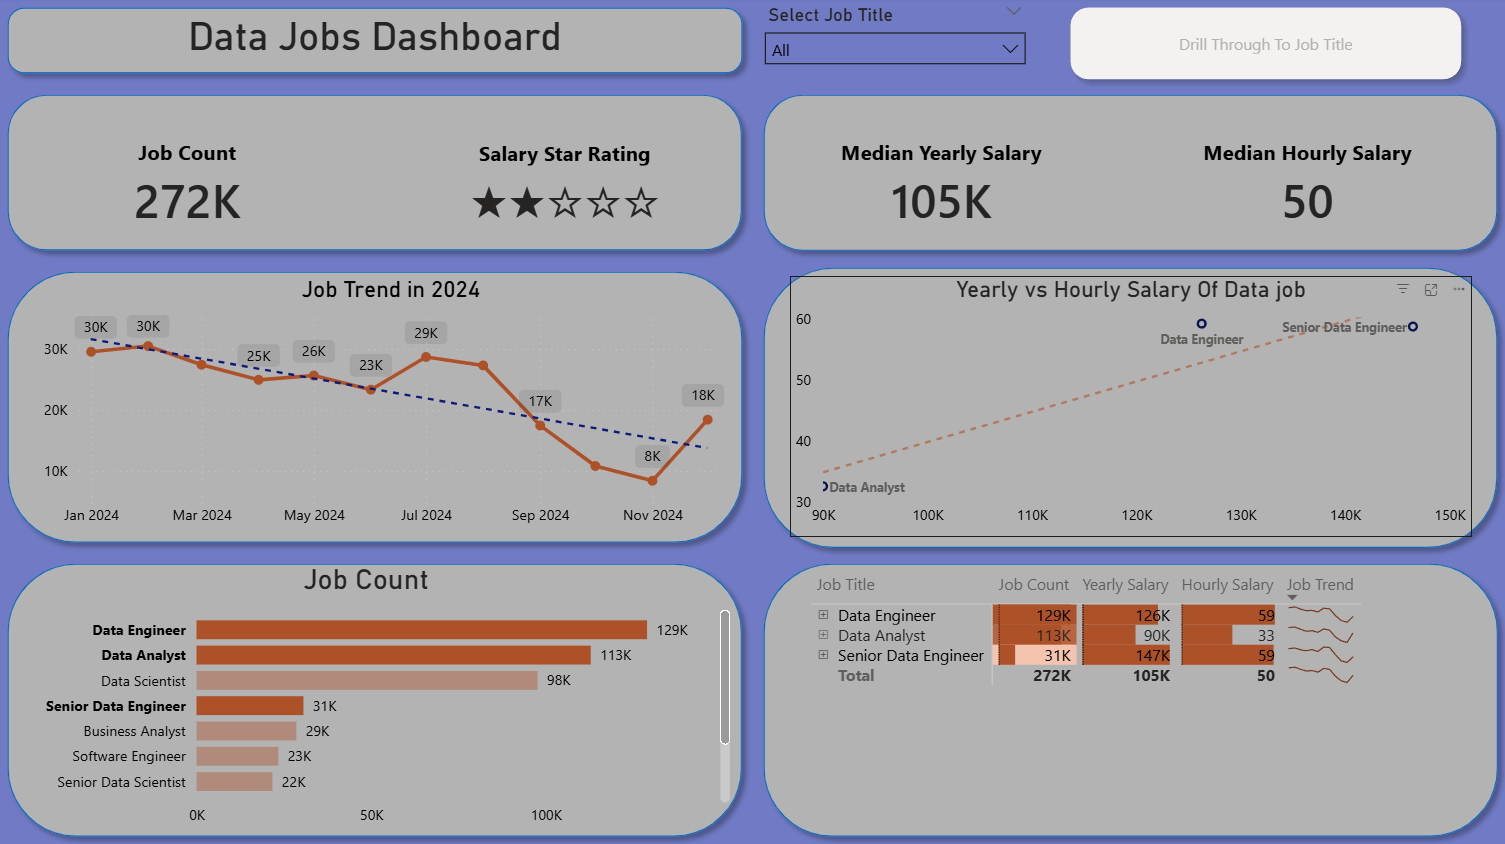

The page's visual inventory and layout, read from the dashboard file:
{"tool":"powerbi","page":{"name":"Dashboard","canvas":[1280,720],"ordinal":0},"visuals":[{"type":"group","id":"g1","title":"Background Shape","box":[0,0,1280,720.2],"z":1000},{"type":"shape","box":[0,73.3,640,150.1],"z":1000,"group":"g1"},{"type":"textbox","box":[0,8.8,640.5,72.7],"z":2000},{"type":"shape","box":[640.5,73.7,639.5,150.3],"z":2000,"group":"g1"},{"type":"slicer","fields":{"Values":["job_postings_flat.job_title_short"]},"box":[640.5,0,240.7,73.7],"z":3000},{"type":"shape","box":[640.5,220,639.5,255.4],"z":3000,"group":"g1"},{"type":"shape","box":[0,224,640.5,247.6],"z":4000,"group":"g1"},{"type":"lineChart","title":"Job Trend in 2024","fields":{"Y":["CountNonNull(job_postings_flat.job_title_short)"],"Category":["job_postings_flat.job_posted_date.Variation.Date Hierarchy.Year","job_postings_flat.job_posted_date.Variation.Date Hierarchy.Quarter","job_postings_flat.job_posted_date.Variation.Date Hierarchy.Month","job_postings_flat.job_posted_date.Variation.Date Hierarchy.Day"]},"box":[34.4,236.7,598.3,221],"z":4000},{"type":"shape","box":[0,470.9,640,249.3],"z":5000,"group":"g1"},{"type":"barChart","title":"Job Count","fields":{"Category":["job_postings_flat.job_title_short"],"Y":["CountNonNull(job_postings_flat.job_title_short)"]},"box":[0,479.4,625.8,231.8],"z":5000},{"type":"scatterChart","title":"Yearly vs Hourly Salary Of Data job","fields":{"X":["job_postings_flat.salary_year_avg"],"Y":["job_postings_flat.salary_hour_avg"],"Series":["job_postings_flat.job_title_short"]},"box":[671.9,236.7,577.6,221],"z":6000},{"type":"shape","box":[640,470.9,640,249.3],"z":6000,"group":"g1"},{"type":"shape","box":[0,0,640.5,73.7],"z":7000,"group":"g1"},{"type":"pivotTable","fields":{"Rows":["job_postings_flat.job_title_short","job_postings_flat.job_posted_date.Variation.Date Hierarchy.Quarter"],"Values":["CountNonNull(job_postings_flat.job_title_short)","Median(job_postings_flat.salary_year_avg)","Median(job_postings_flat.salary_hour_avg)","SparklineData(CountNonNull(job_postings_flat.job_title_short)_[job_postings_flat.job_posted_date.Variation.Date Hierarch"]},"box":[684.7,483.3,595.3,236.7],"z":7000},{"type":"cardVisual","title":"Job Count","fields":{"Data":["CountNonNull(job_postings_flat.job_title_short)"]},"box":[2,78.6,319.3,158.2],"z":8000},{"type":"cardVisual","fields":{"Data":["job_postings_flat.Salary Star Rating"]},"box":[321.2,78.6,320.2,158.2],"z":9000},{"type":"cardVisual","fields":{"Data":["Median(job_postings_flat.salary_year_avg)"]},"box":[645.4,78.6,309.4,158.2],"z":10000},{"type":"cardVisual","fields":{"Data":["Median(job_postings_flat.salary_hour_avg)"]},"box":[954.8,80.6,311.4,156.2],"z":11000},{"type":"actionButton","box":[900.8,0,348.7,78.6],"z":12000}]}

Visuals, with their boxes in screenshot pixels (x1, y1, x2, y2), scaled from the page's 1280x720 canvas onto the 1505x844 screenshot:
"Background Shape" group: <bbox>0, 0, 1504, 843</bbox>
shape: <bbox>0, 86, 752, 262</bbox>
textbox: <bbox>0, 10, 753, 96</bbox>
shape: <bbox>753, 86, 1504, 263</bbox>
slicer - job_postings_flat.job_title_short: <bbox>753, 0, 1036, 86</bbox>
shape: <bbox>753, 258, 1504, 557</bbox>
shape: <bbox>0, 263, 753, 553</bbox>
"Job Trend in 2024" lineChart: <bbox>40, 277, 744, 537</bbox>
shape: <bbox>0, 552, 752, 843</bbox>
"Job Count" barChart: <bbox>0, 562, 736, 834</bbox>
"Yearly vs Hourly Salary Of Data job" scatterChart: <bbox>790, 277, 1469, 537</bbox>
shape: <bbox>752, 552, 1504, 843</bbox>
shape: <bbox>0, 0, 753, 86</bbox>
pivotTable - job_postings_flat.job_title_short x job_postings_flat.job_posted_date.Variation.Date Hierarchy.Quarter: <bbox>805, 567, 1504, 843</bbox>
"Job Count" cardVisual: <bbox>2, 92, 378, 278</bbox>
cardVisual - job_postings_flat.Salary Star Rating: <bbox>378, 92, 754, 278</bbox>
cardVisual - Median(job_postings_flat.salary_year_avg): <bbox>759, 92, 1123, 278</bbox>
cardVisual - Median(job_postings_flat.salary_hour_avg): <bbox>1123, 94, 1489, 278</bbox>
actionButton: <bbox>1059, 0, 1469, 92</bbox>
